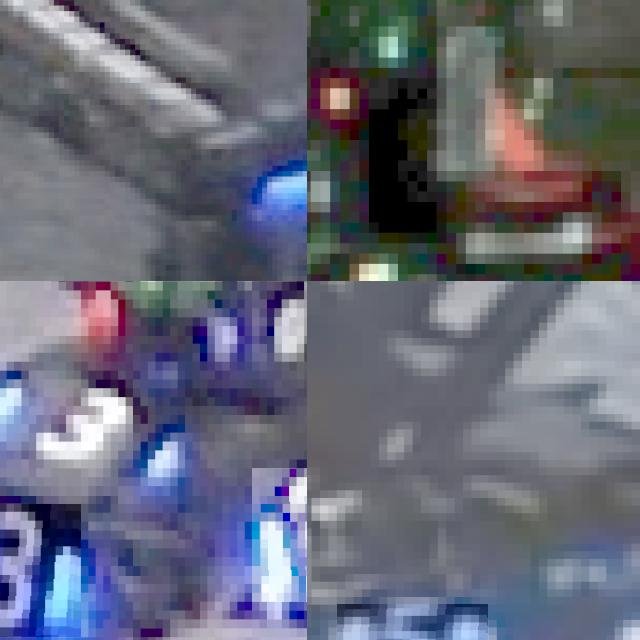B3: (0, 503, 81, 637), (252, 468, 307, 601)
B5: (336, 604, 488, 640)
